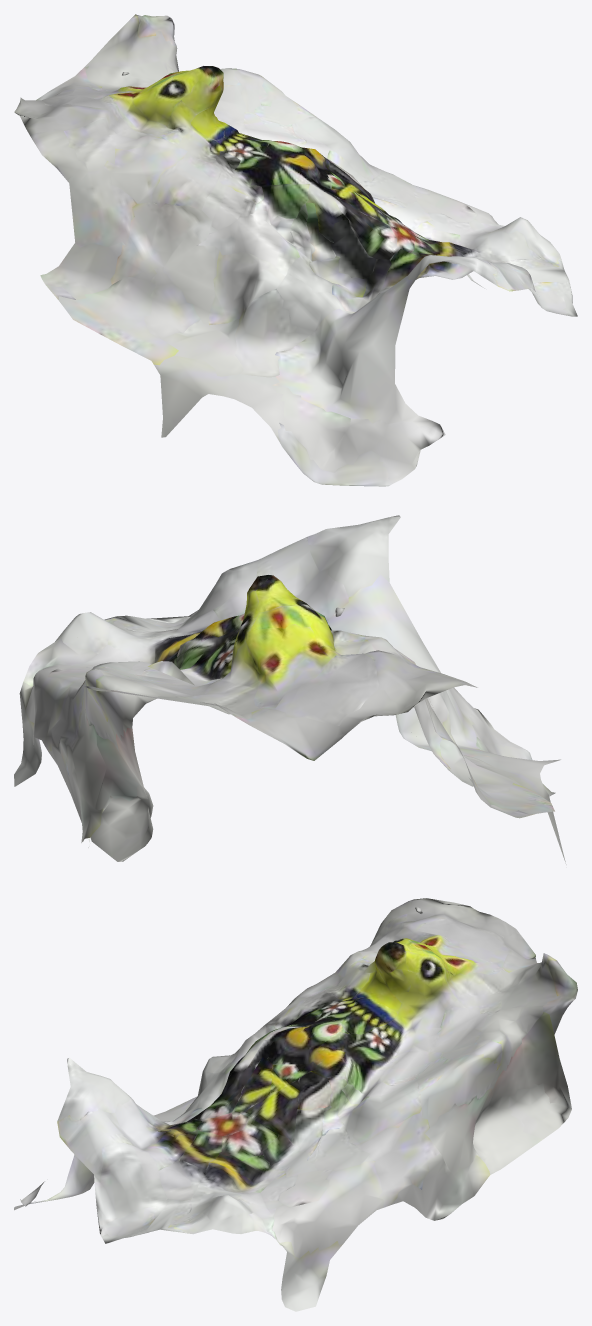
File: hall.glb
The picture shows the model from 3 angles, top to bottom: view 1: azimuth 30°, elevation 25°; view 2: azimuth 150°, elevation 25°; view 3: azimuth 270°, elevation 25°; orthographic projection. The views are drawn at different scales.
Bounding box in the file's own units: 1.11 × 0.7021 × 1.29.
1 material, 1 textured.
